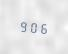nine: (18, 18, 27, 33)
six: (39, 20, 48, 35)
zero: (29, 19, 38, 34)
